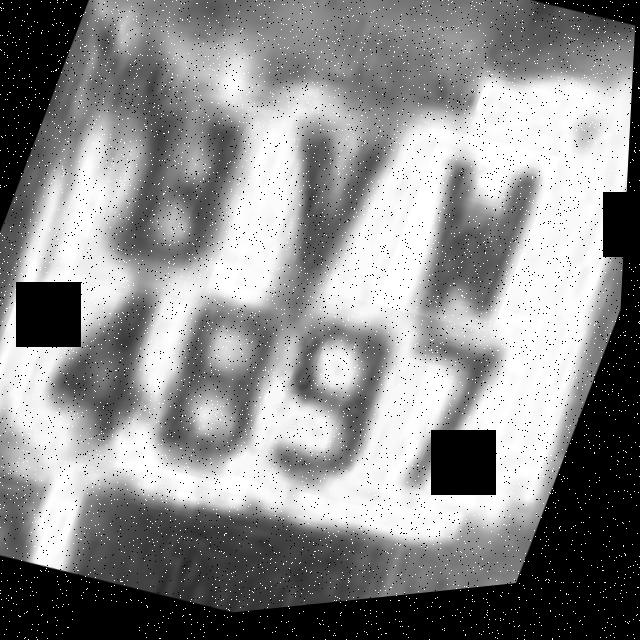4: (6, 228, 217, 491)
7: (351, 290, 549, 533)
8: (117, 249, 329, 513)
9: (231, 281, 451, 530)
B: (75, 62, 281, 319)
V: (231, 86, 428, 327)
W: (376, 128, 564, 355)
Y: (236, 91, 434, 335)
